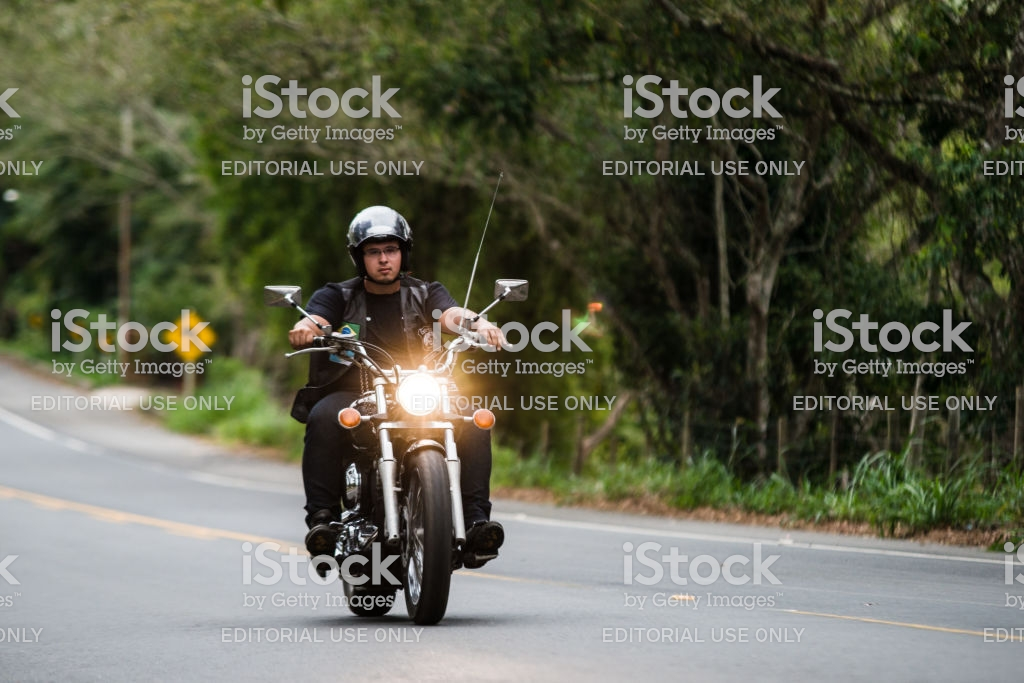helmet: (350, 207, 412, 254)
